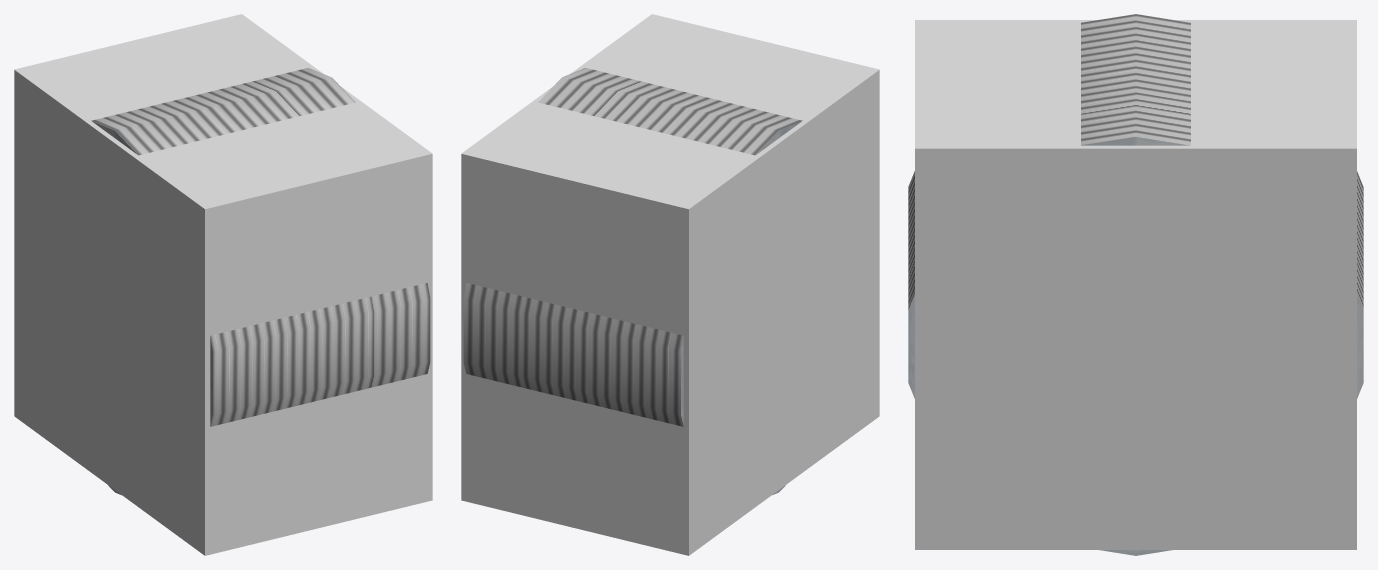
The model's file is soedin_al_rad_1.FBX.
The picture shows the model from 3 angles, left to right: view 1: azimuth 30°, elevation 25°; view 2: azimuth 150°, elevation 25°; view 3: azimuth 270°, elevation 25°; orthographic projection. The views are drawn at different scales.
Visible parts, largest first — view 1: soedin_al_rad_1_COL_, soedin_al_rad_1_; view 2: soedin_al_rad_1_COL_, soedin_al_rad_1_; view 3: soedin_al_rad_1_COL_, soedin_al_rad_1_.
Boxes of the visible parts, <box> form: soedin_al_rad_1_COL_: <box>14,14,432,555</box>; soedin_al_rad_1_: <box>91,68,430,495</box>; soedin_al_rad_1_COL_: <box>461,14,879,555</box>; soedin_al_rad_1_: <box>463,68,802,495</box>; soedin_al_rad_1_COL_: <box>915,20,1356,549</box>; soedin_al_rad_1_: <box>908,14,1363,555</box>.
Size of the model in its own units: 0.022 by 0.0334 by 0.0329.
Materials: 2 (2 with a texture image).
